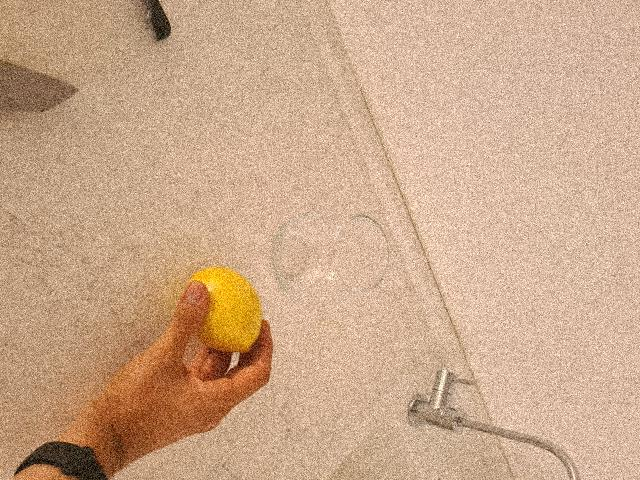lemon: (190, 269, 258, 352)
